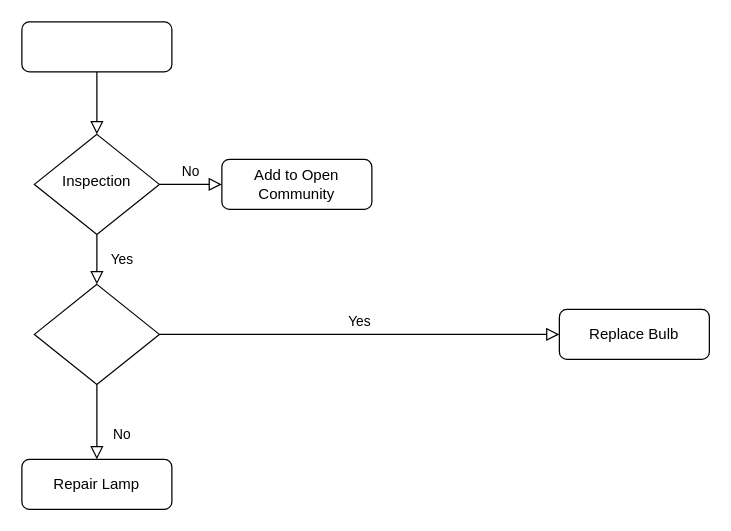
This 731x531 diagram has some shape labels left out. The centre of each missing label's shape, as x and y in pixels:
"Interview" belongs at point (96, 333).
"Lead Generation" belongs at point (96, 46).
